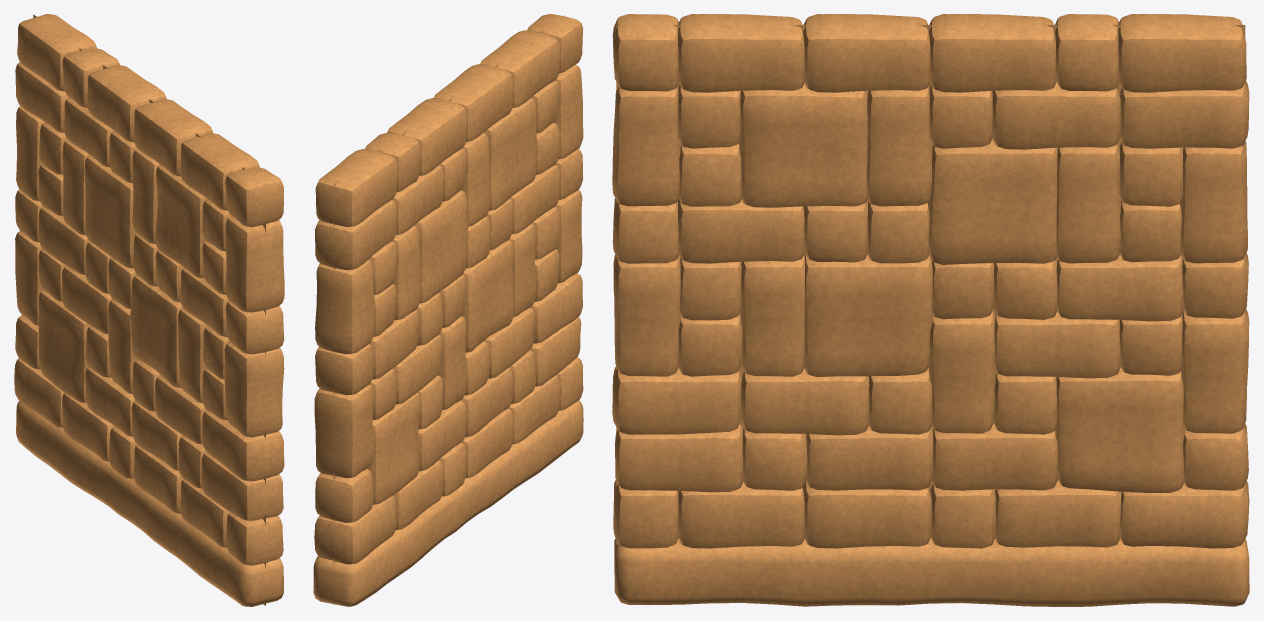
The model's file is wall_mid_a.fbx.
3 views of the same model, side by side, from view 1: azimuth 30°, elevation 25°; view 2: azimuth 150°, elevation 25°; view 3: azimuth 270°, elevation 25° (orthographic). The views are drawn at different scales.
Parts seen in each view (by area): view 1: small_stone_block_A.066; view 2: small_stone_block_A.066; view 3: small_stone_block_A.066.
Part boxes in pixels (box(x1,y1,x2,y2)): small_stone_block_A.066: box(14, 14, 284, 606); small_stone_block_A.066: box(313, 14, 583, 606); small_stone_block_A.066: box(612, 14, 1249, 606).
Size of the model in its own units: 0.4596 by 4.06 by 4.05.
